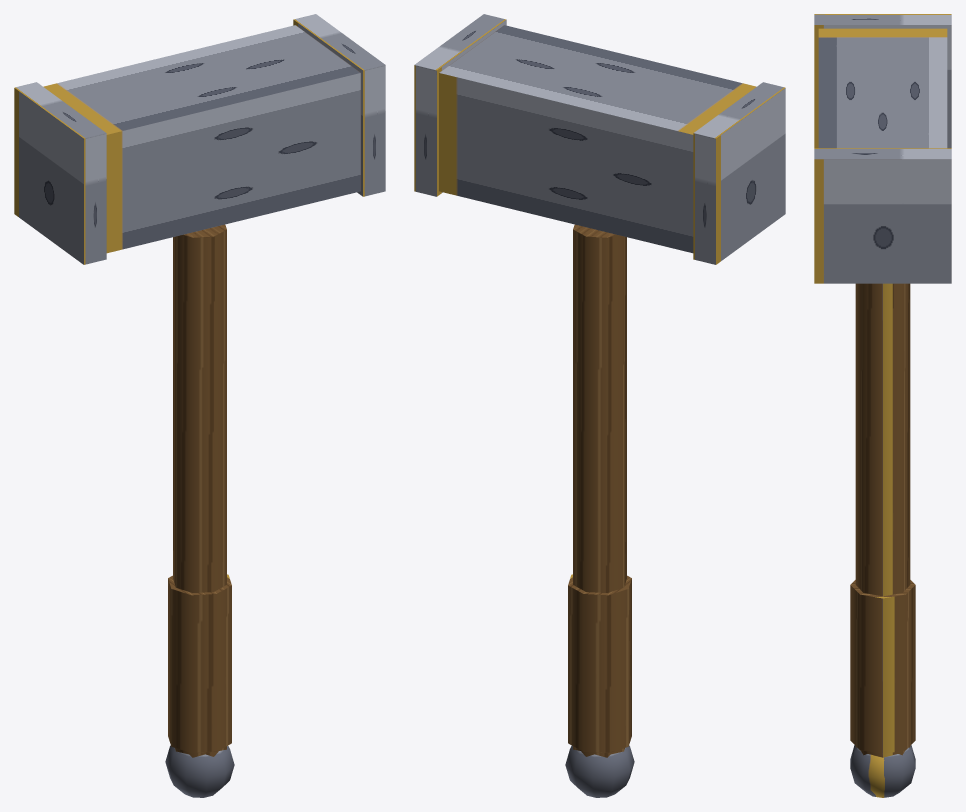
The model's file is hammer.glb.
The picture shows the model from 3 angles, left to right: view 1: azimuth 30°, elevation 25°; view 2: azimuth 150°, elevation 25°; view 3: azimuth 270°, elevation 25°; orthographic projection.
Visible parts, largest first — view 1: hammer; view 2: hammer; view 3: hammer.
Boxes of the visible parts, x1,y1,x2,y2 form: hammer: [14, 14, 385, 797]; hammer: [414, 14, 785, 797]; hammer: [814, 14, 951, 797].
Bounding box in the file's own units: 0.4 × 0.91 × 0.16.
1 material, 1 textured.
